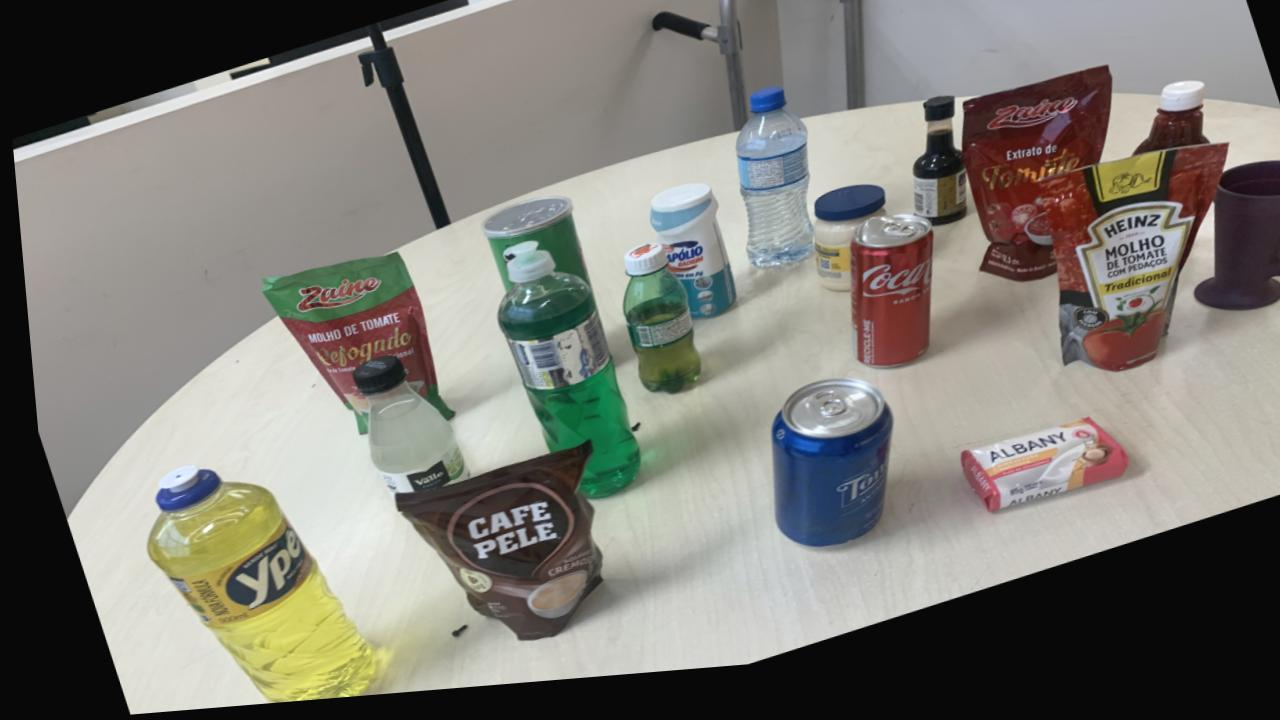Cleaner-Cleanup_Items: (644, 194, 730, 330)
Coffee-Pantry_Items: (384, 450, 591, 648)
Coke-Drinks: (843, 228, 928, 382)
Detergent-Cleanup_Items: (136, 467, 362, 707), (490, 249, 631, 507)
English_Sauce-Pantry_Items: (907, 112, 962, 241)
Guarana-Drinks: (616, 253, 693, 404)
Ketchup-Pantry_Items: (1128, 100, 1203, 174)
Mayonnaise-Pantry_Items: (807, 198, 880, 305)
Pringles-Snacks: (476, 203, 584, 298)
Soap-Cleanup_Items: (950, 435, 1118, 527)
Soda-Drinks: (343, 361, 459, 501)
Tomato_Sauce-Pantry_Items: (1033, 163, 1223, 389), (255, 258, 445, 439), (957, 84, 1109, 298)
Tonic-Drinks: (762, 391, 884, 559)
Water_Bottle-Drinks: (731, 99, 808, 280)
